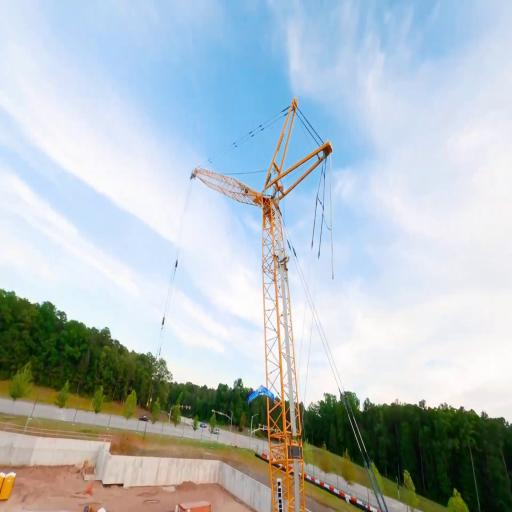uav: (248, 382, 276, 408)
